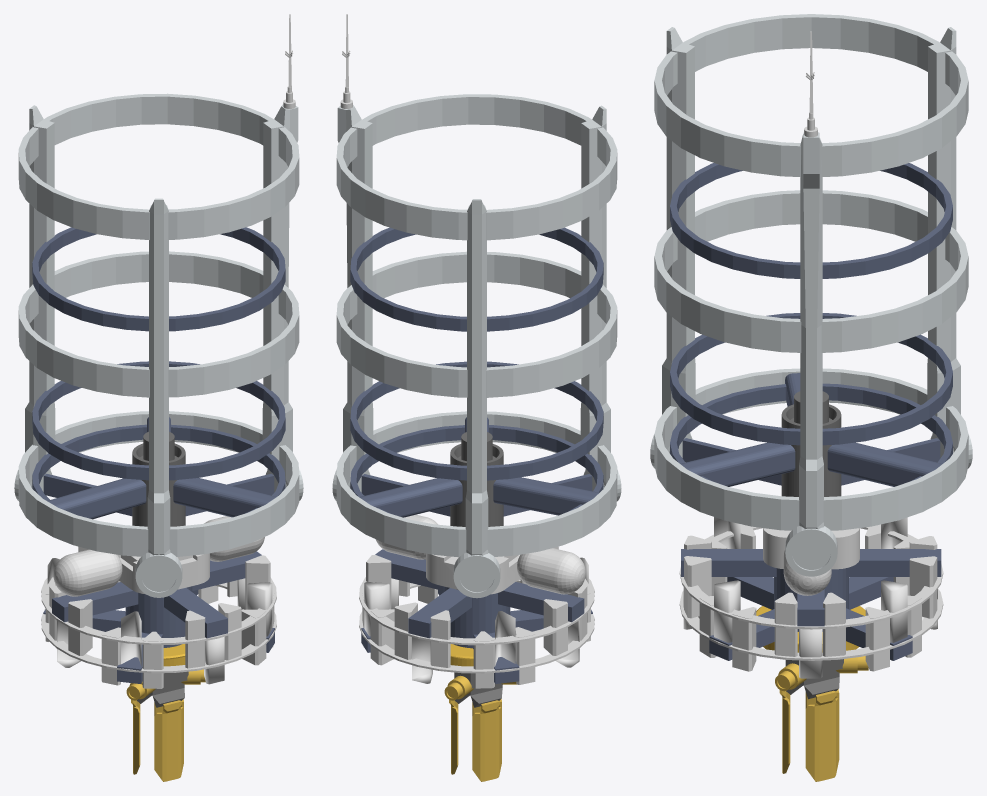
Rendered from station_shipmaker_1.glb.
The picture shows the model from 3 angles, left to right: view 1: azimuth 30°, elevation 25°; view 2: azimuth 150°, elevation 25°; view 3: azimuth 270°, elevation 25°; orthographic projection. The views are drawn at different scales.
Parts seen in each view (by area): view 1: Cylinder.054, Cylinder.032, Cylinder.031, Cube.016, Cylinder.057, Cube.014, Cylinder.055, Cube.015, satation_base, Cylinder.056, Cube.012, Cube.020 (+23 smaller); view 2: Cylinder.054, Cylinder.032, Cylinder.031, Cube.015, Cylinder.057, Cube.014, Cylinder.055, Cube.016, satation_base, Cylinder.056, Cube.012, Cube.022 (+23 smaller); view 3: Cylinder.054, Cylinder.032, Cylinder.031, Cube.014, Cylinder.057, Cylinder.055, Cube.015, Cube.016, satation_base, Cylinder.056, Cube.005, Cube.020 (+25 smaller).
Boxes of the visible parts, x1=… form: Cylinder.054: x1=18, y1=93, x2=299, y2=239; Cylinder.032: x1=18, y1=251, x2=299, y2=397; Cylinder.031: x1=18, y1=411, x2=299, y2=556; Cube.016: x1=135, y1=198, x2=182, y2=597; Cylinder.057: x1=32, y1=227, x2=285, y2=331; Cube.014: x1=262, y1=104, x2=303, y2=500; Cylinder.055: x1=32, y1=361, x2=285, y2=480; Cube.015: x1=14, y1=105, x2=55, y2=500; satation_base: x1=126, y1=644, x2=205, y2=781; Cylinder.056: x1=32, y1=424, x2=285, y2=513; Cube.012: x1=52, y1=551, x2=261, y2=622; Cube.020: x1=173, y1=478, x2=276, y2=517; Cylinder.054: x1=336, y1=94, x2=617, y2=240; Cylinder.032: x1=336, y1=251, x2=617, y2=397; Cylinder.031: x1=336, y1=411, x2=617, y2=557; Cube.015: x1=453, y1=199, x2=500, y2=598; Cylinder.057: x1=350, y1=227, x2=603, y2=331; Cube.014: x1=332, y1=105, x2=373, y2=500; Cylinder.055: x1=350, y1=361, x2=603, y2=480; Cube.016: x1=580, y1=105, x2=621, y2=501; satation_base: x1=444, y1=644, x2=516, y2=781; Cylinder.056: x1=350, y1=425, x2=603, y2=513; Cube.012: x1=375, y1=549, x2=584, y2=622; Cube.022: x1=493, y1=477, x2=599, y2=515; Cylinder.054: x1=654, y1=14, x2=968, y2=176; Cylinder.032: x1=654, y1=190, x2=968, y2=352; Cylinder.031: x1=654, y1=368, x2=968, y2=530; Cube.014: x1=785, y1=132, x2=837, y2=576; Cylinder.057: x1=670, y1=163, x2=952, y2=278; Cylinder.055: x1=670, y1=313, x2=952, y2=445; Cube.015: x1=927, y1=27, x2=972, y2=468; Cube.016: x1=650, y1=27, x2=695, y2=468; satation_base: x1=756, y1=606, x2=868, y2=781; Cylinder.056: x1=670, y1=383, x2=952, y2=481; Cube.005: x1=681, y1=549, x2=941, y2=576; Cube.020: x1=680, y1=442, x2=795, y2=486.
Bounding box in the file's own units: 170 × 458 × 166.
